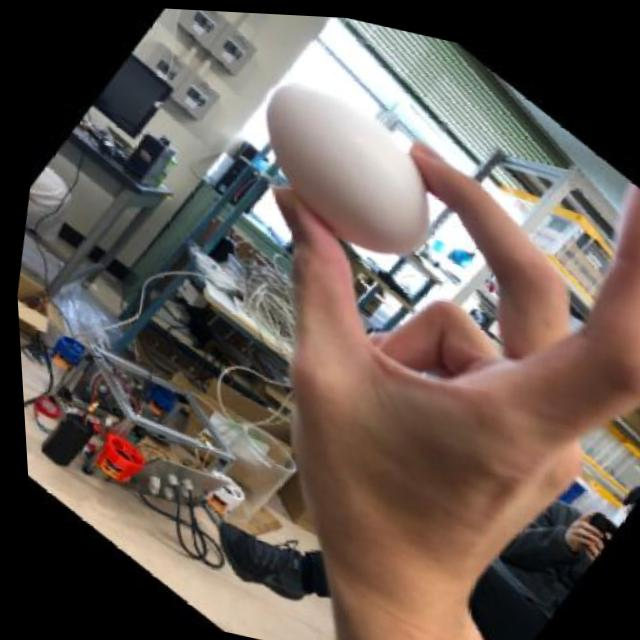egg: (242, 71, 452, 263)
